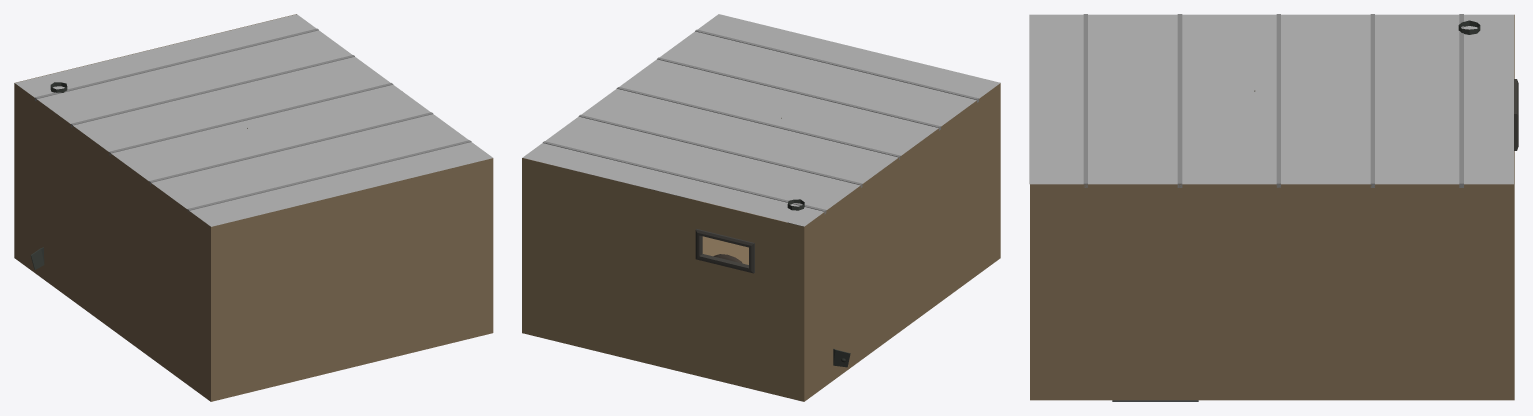
Rendered from Room.fbx.
3 renders of one model, left to right at view 1: azimuth 30°, elevation 25°; view 2: azimuth 150°, elevation 25°; view 3: azimuth 270°, elevation 25°, orthographic. The views are drawn at different scales.
Parts seen in each view (by area): view 1: walls, Ceiling; view 2: walls, Ceiling, window, floor; view 3: walls, Ceiling.
Part boxes in pixels (x1,y1,x2,y2): walls: [14, 14, 493, 401]; Ceiling: [15, 14, 492, 226]; walls: [522, 83, 1000, 401]; Ceiling: [522, 14, 1000, 226]; window: [695, 229, 754, 273]; floor: [702, 201, 786, 264]; walls: [1030, 14, 1514, 400]; Ceiling: [1029, 14, 1513, 187].
Size of the model in its own units: 404 by 239 by 467.
